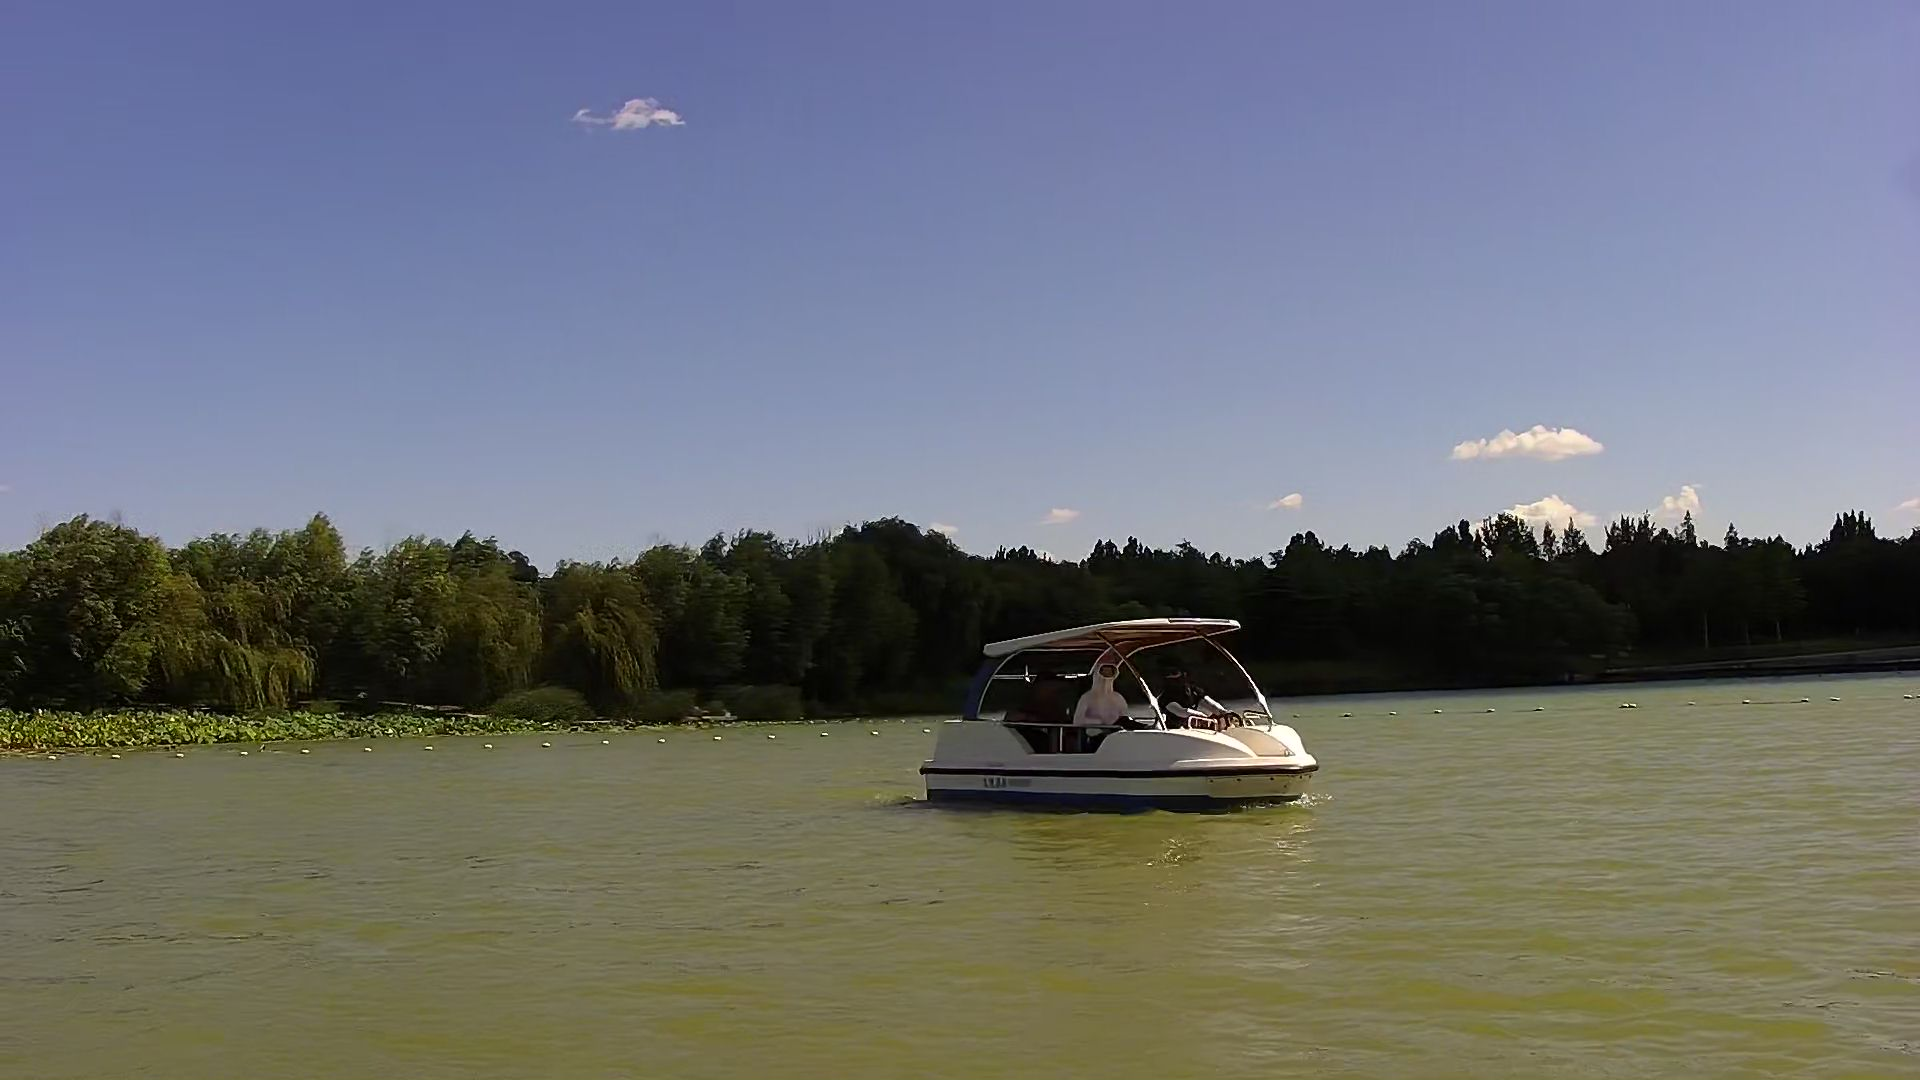boat: (916, 622, 1329, 824)
